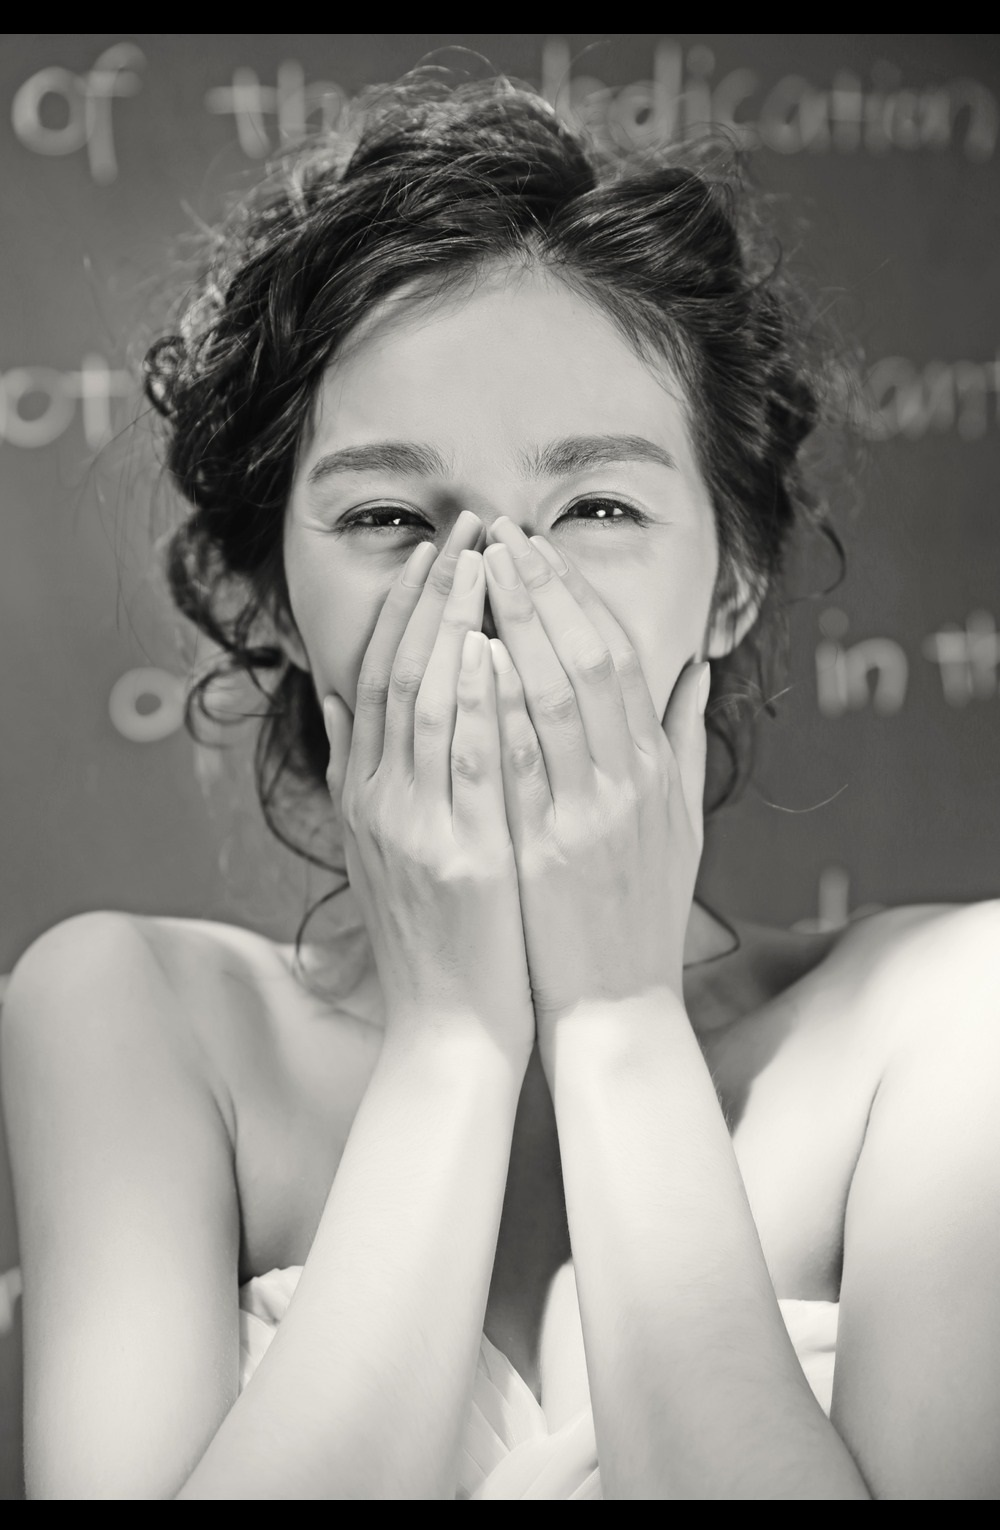face: (308, 261, 698, 906)
